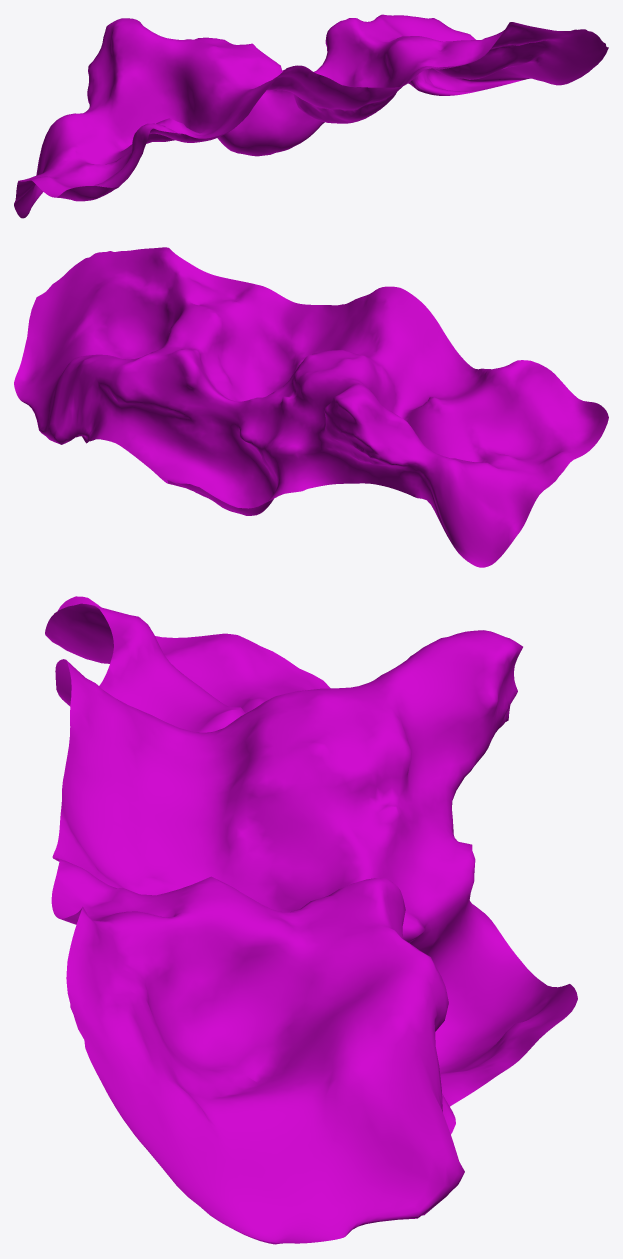
Rendered from expbf_start_rocks.gltf.
The picture shows the model from 3 angles, top to bottom: view 1: azimuth 30°, elevation 25°; view 2: azimuth 150°, elevation 25°; view 3: azimuth 270°, elevation 25°; orthographic projection. The views are drawn at different scales.
Visible parts, largest first — view 1: rocks; view 2: rocks; view 3: rocks.
Part boxes in pixels (left/top/right/bottom): rocks: left=14, top=14, right=608, bottom=218; rocks: left=14, top=247, right=608, bottom=567; rocks: left=45, top=596, right=577, bottom=1244.
Bounding box in the file's own units: 271 × 80 × 112.
